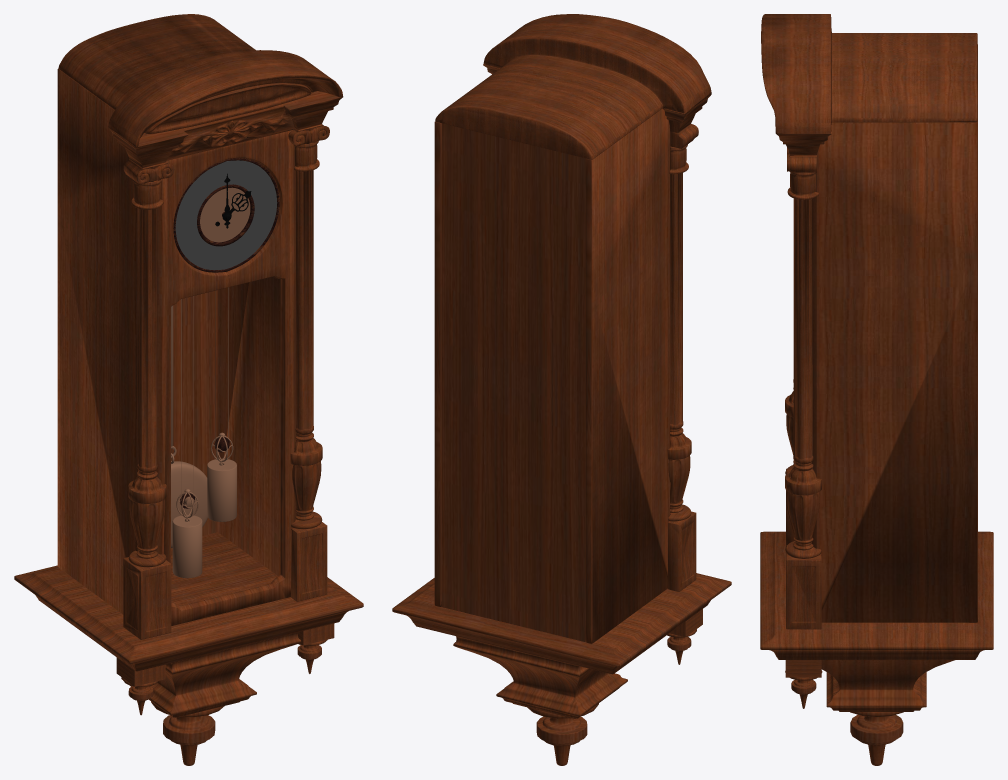
The model's file is clock.fbx.
3 views of the same model, side by side, from view 1: azimuth 30°, elevation 25°; view 2: azimuth 150°, elevation 25°; view 3: azimuth 270°, elevation 25° (orthographic). The views are drawn at different scales.
Parts seen in each view (by area): view 1: _____Z_20_0424_15_608, _____Z_20_0424_15_603, _____Z_20_0424_15_610, _____Z_20_0424_15_611, _____Z_20_0424_15_609, _____Z_20_0424_15_614, _____Z_20_0424_15_601, _____Z_20_0424_15_589, _____Z_20_0424_15_602, _____Z_20_0424_15_593, _____Z_20_0424_15_595, _____Z_20_0424_15_590 (+3 smaller); view 2: _____Z_20_0424_15_609, _____Z_20_0424_15_608, _____Z_20_0424_15_610, _____Z_20_0424_15_611, _____Z_20_0424_15_603, _____Z_20_0424_15_601, _____Z_20_0424_15_602; view 3: _____Z_20_0424_15_608, _____Z_20_0424_15_610, _____Z_20_0424_15_603, _____Z_20_0424_15_611, _____Z_20_0424_15_601, _____Z_20_0424_15_602, _____Z_20_0424_15_607, _____Z_20_0424_15_606.
Part boxes in pixels (box(x1,y1,x2,y2)): _____Z_20_0424_15_608: box(57, 69, 296, 625); _____Z_20_0424_15_603: box(107, 91, 342, 639); _____Z_20_0424_15_610: box(58, 14, 343, 147); _____Z_20_0424_15_611: box(14, 532, 363, 671); _____Z_20_0424_15_609: box(171, 290, 217, 535); _____Z_20_0424_15_614: box(175, 160, 277, 270); _____Z_20_0424_15_601: box(121, 631, 301, 717); _____Z_20_0424_15_589: box(200, 187, 250, 242); _____Z_20_0424_15_602: box(151, 701, 224, 765); _____Z_20_0424_15_593: box(172, 514, 202, 578); _____Z_20_0424_15_595: box(207, 458, 236, 521); _____Z_20_0424_15_590: box(171, 453, 207, 548); _____Z_20_0424_15_609: box(441, 123, 585, 641); _____Z_20_0424_15_608: box(434, 108, 669, 643); _____Z_20_0424_15_610: box(435, 14, 711, 159); _____Z_20_0424_15_611: box(392, 573, 731, 674); _____Z_20_0424_15_603: box(483, 64, 711, 591); _____Z_20_0424_15_601: box(453, 636, 627, 718); _____Z_20_0424_15_602: box(527, 703, 598, 765); _____Z_20_0424_15_608: box(811, 44, 977, 622); _____Z_20_0424_15_610: box(761, 14, 977, 133); _____Z_20_0424_15_603: box(776, 123, 831, 629); _____Z_20_0424_15_611: box(760, 531, 993, 659); _____Z_20_0424_15_601: box(821, 660, 954, 711); _____Z_20_0424_15_602: box(850, 712, 903, 765); _____Z_20_0424_15_607: box(785, 660, 821, 677); _____Z_20_0424_15_606: box(785, 670, 822, 708).
Size of the model in its own units: 326 by 961 by 279.
5 materials, 3 textured.
